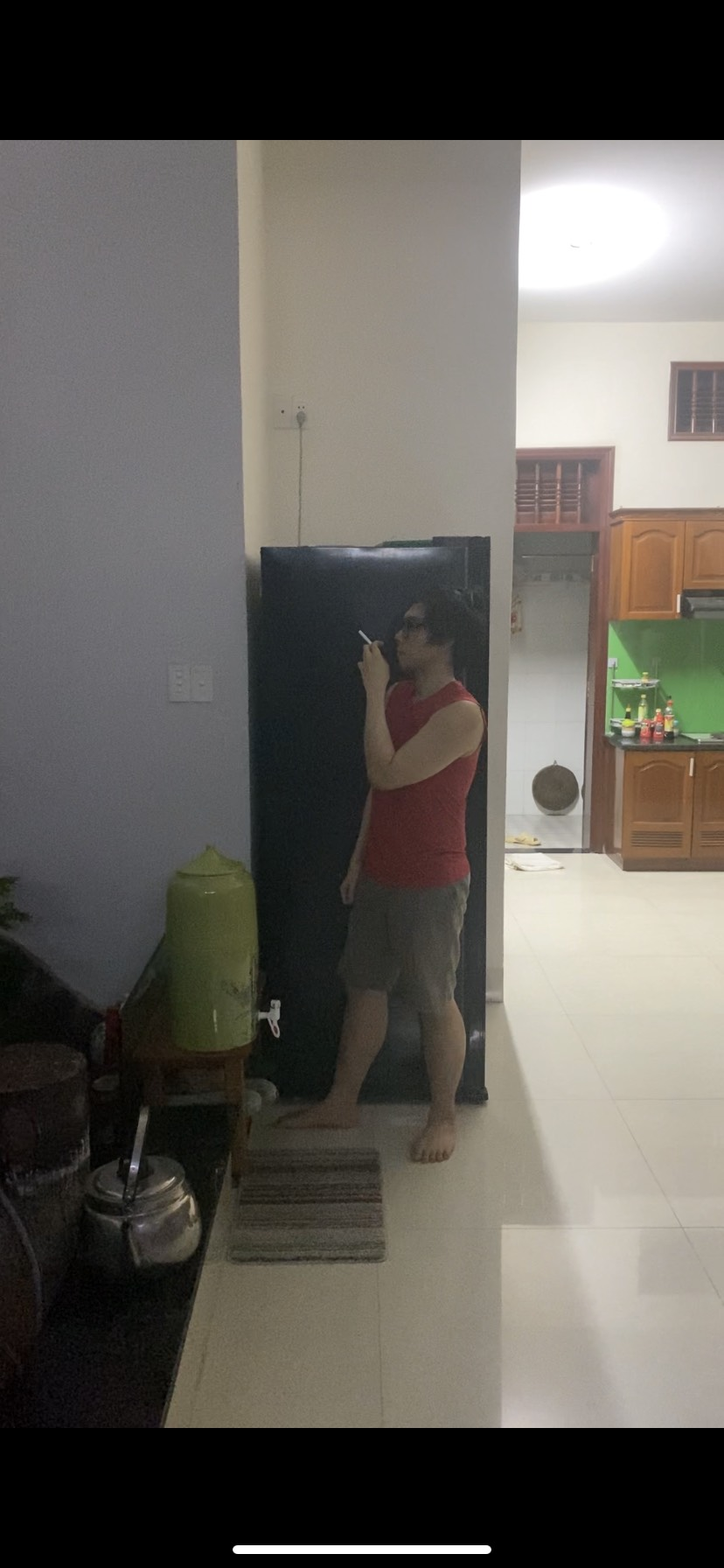cigarette: (357, 627, 373, 646)
person: (338, 591, 485, 1163)
